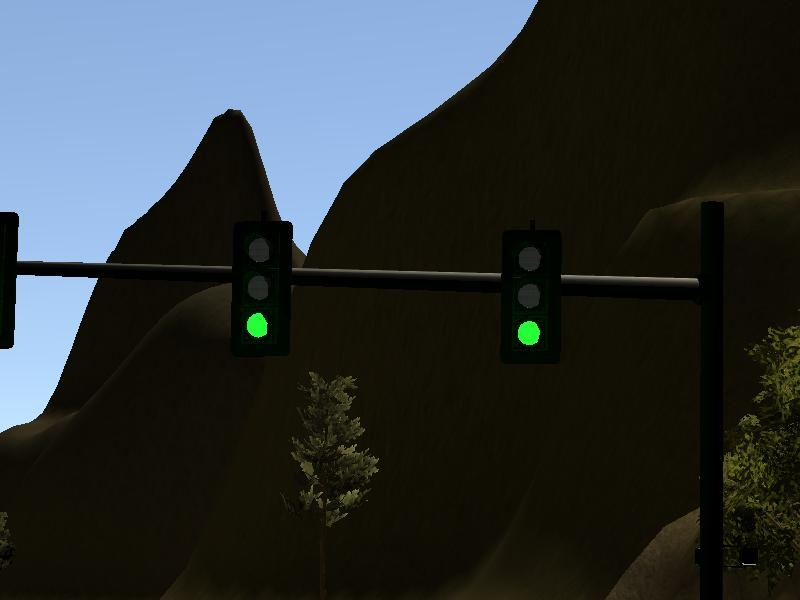GREEN: (228, 220, 293, 354), (496, 231, 561, 365)
